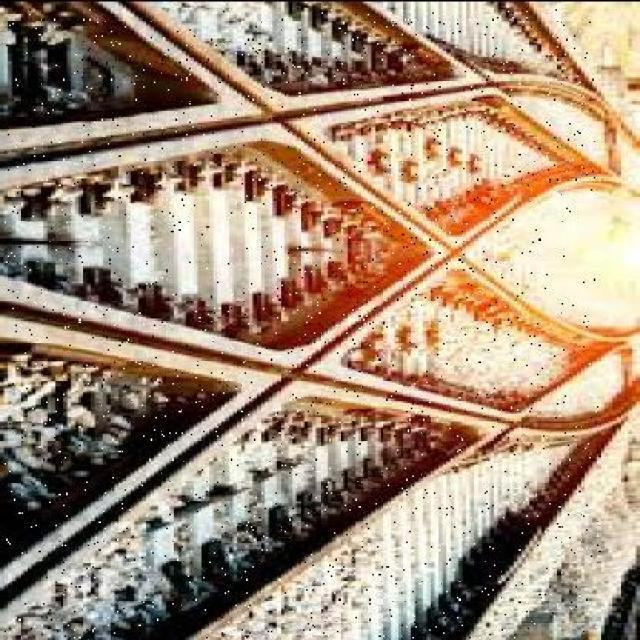rail: (4, 8, 600, 637)
